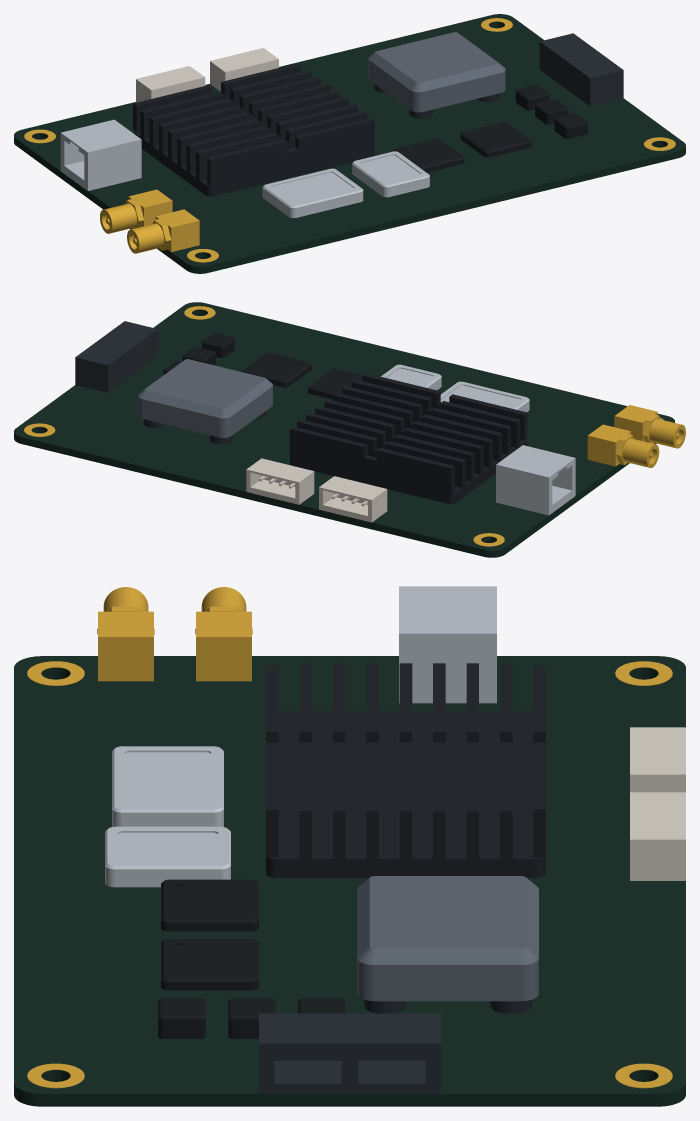
File: kestrel_fc400_pcb.glb
The picture shows the model from 3 angles, top to bottom: view 1: azimuth 30°, elevation 25°; view 2: azimuth 150°, elevation 25°; view 3: azimuth 270°, elevation 25°; orthographic projection. The views are drawn at different scales.
Parts seen in each view (by area): view 1: kestrel_fc400_pcb (×8); view 2: kestrel_fc400_pcb (×8); view 3: kestrel_fc400_pcb (×9).
Part boxes in pixels (bbox=[...]): kestrel_fc400_pcb (×8): bbox=[14, 14, 685, 273]; kestrel_fc400_pcb (×8): bbox=[14, 302, 685, 557]; kestrel_fc400_pcb (×9): bbox=[14, 586, 685, 1106].
Size of the model in its own units: 0.157 by 0.013 by 0.096.
